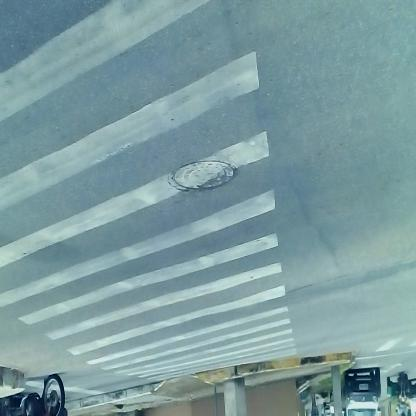crosswalk: (3, 11, 302, 356)
sidewalk: (69, 374, 349, 416)
